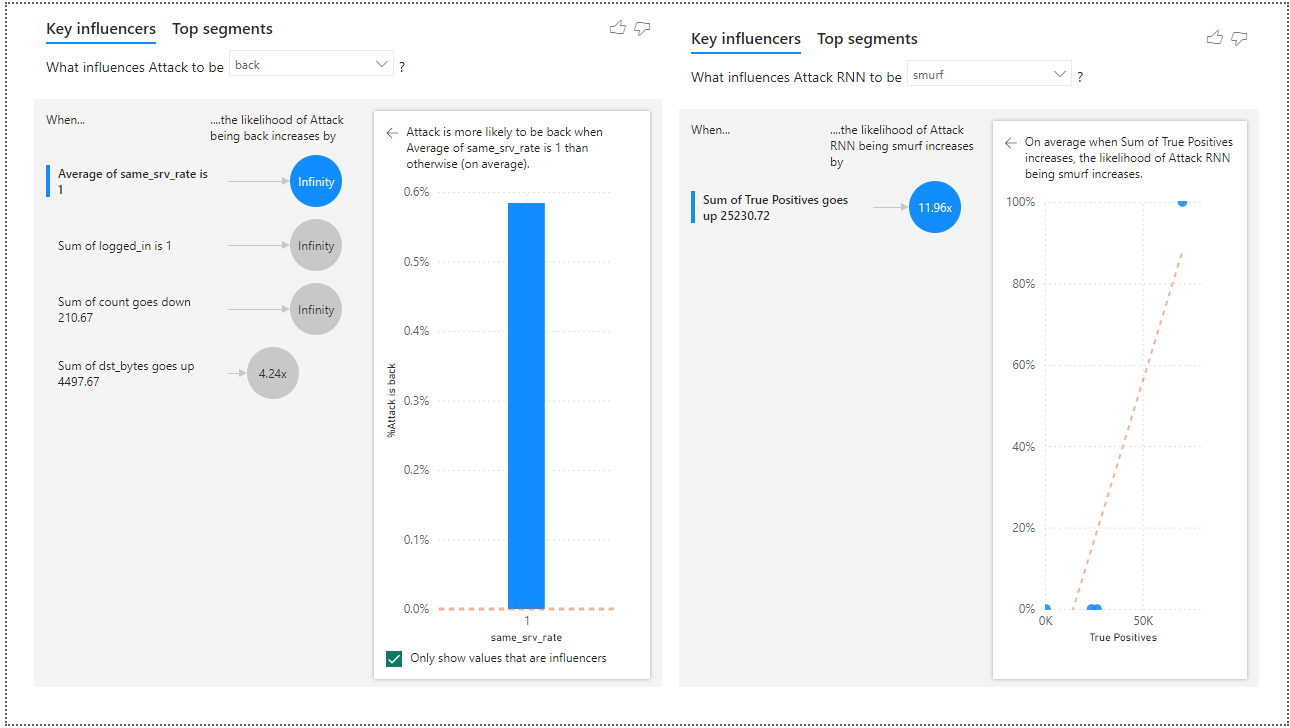

The dashboard page shown, as its layout file describes it:
{"tool":"powerbi","page":{"name":"Key Influencers","canvas":[1280,720],"ordinal":5},"visuals":[{"type":"keyDriversVisual","fields":{"ExplainBy":["kddcup99_csv.protocol_type","kddcup99_csv.flag","kddcup99_csv.service","Sum(kddcup99_csv.duration)","Sum(kddcup99_csv.dst_bytes)","Sum(kddcup99_csv.logged_in)","Avg(kddcup99_csv.same_srv_rate)","Sum(kddcup99_csv.lroot_shell)","Sum(kddcup99_csv.count)"],"Target":["kddcup99_csv.label"]},"box":[22,0,638,688],"z":0},{"type":"keyDriversVisual","fields":{"ExplainBy":["Sum(RNN.False Positives)","Sum(RNN.True Positives)","Sum(kddcup99_csv.duration)","Sum(kddcup99_csv.dst_host_srv_serror_rate)","Sum(kddcup99_csv.lroot_shell)","RNN.Attack 1","Sum(RNN.False Negatives)"],"Target":["RNN.Attack 1"]},"box":[667,10,590,678],"z":1000}]}

Visuals, with their boxes in screenshot pixels (x1, y1, x2, y2), scaled from the page's 1280x720 canvas onto the 1290x728 screenshot:
keyDriversVisual - kddcup99_csv.protocol_type x kddcup99_csv.flag: detection(22, 0, 665, 696)
keyDriversVisual - Sum(RNN.False Positives) x Sum(RNN.True Positives): detection(672, 10, 1267, 696)
